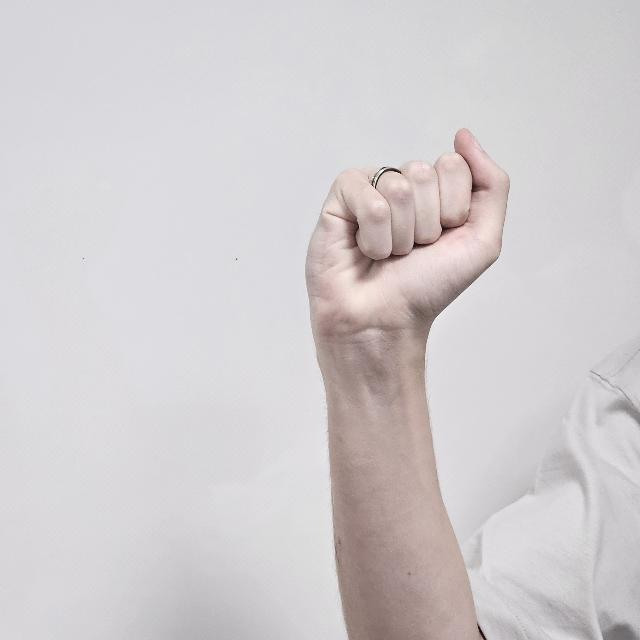Quadro: (305, 126, 509, 360)
